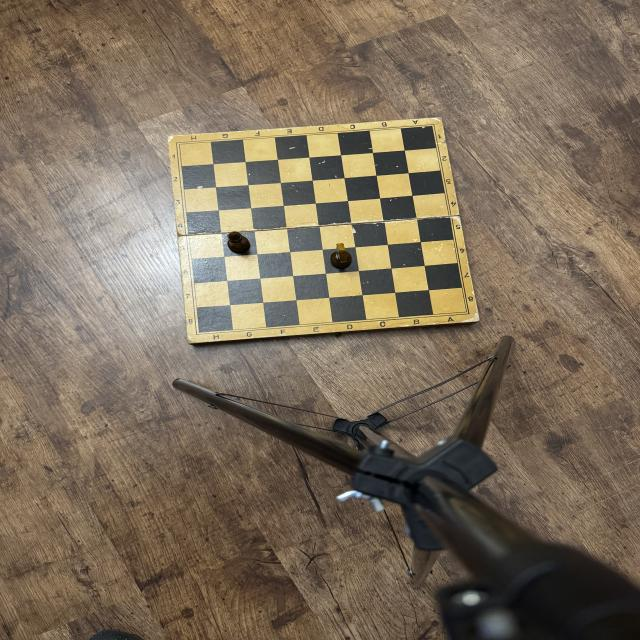black-bishop: (228, 231, 250, 254)
black-knight: (330, 243, 352, 268)
